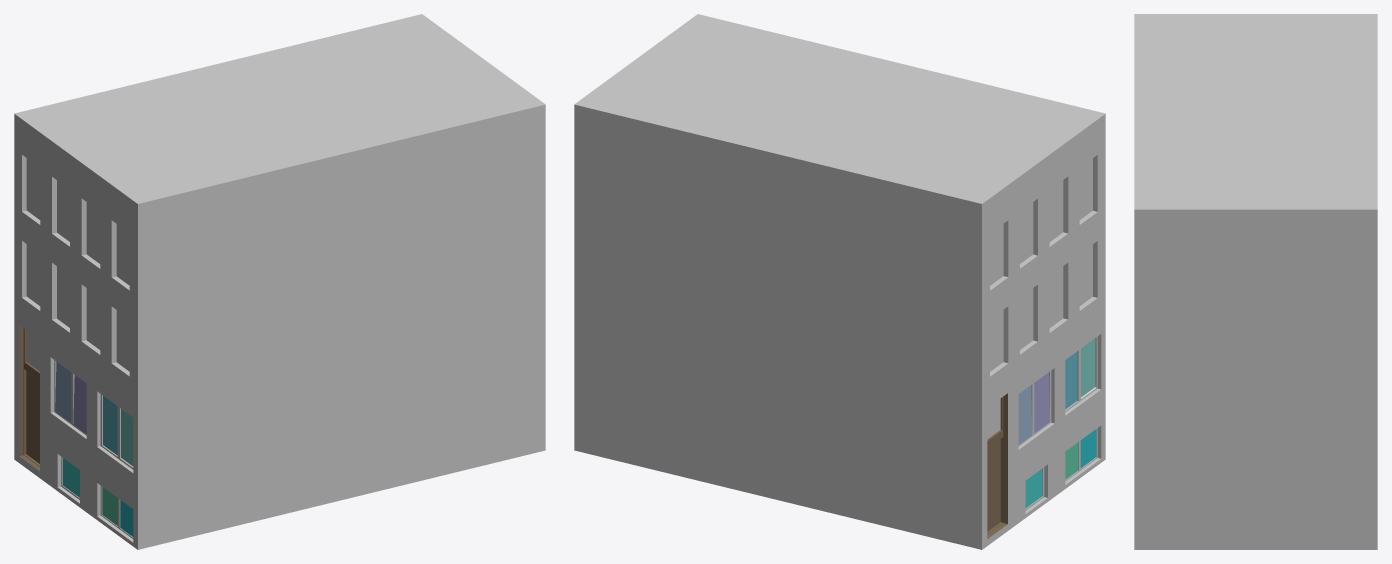
Rendered from bldg.fbx.
The picture shows the model from 3 angles, left to right: view 1: azimuth 30°, elevation 25°; view 2: azimuth 150°, elevation 25°; view 3: azimuth 270°, elevation 25°; orthographic projection.
Parts seen in each view (by area): view 1: Cube; view 2: Cube; view 3: Cube.
Part boxes in pixels (x1,y1,x2,y2): Cube: [14, 14, 545, 549]; Cube: [574, 14, 1105, 549]; Cube: [1134, 14, 1377, 549].
Size of the model in its own units: 1000 by 810 by 525.
